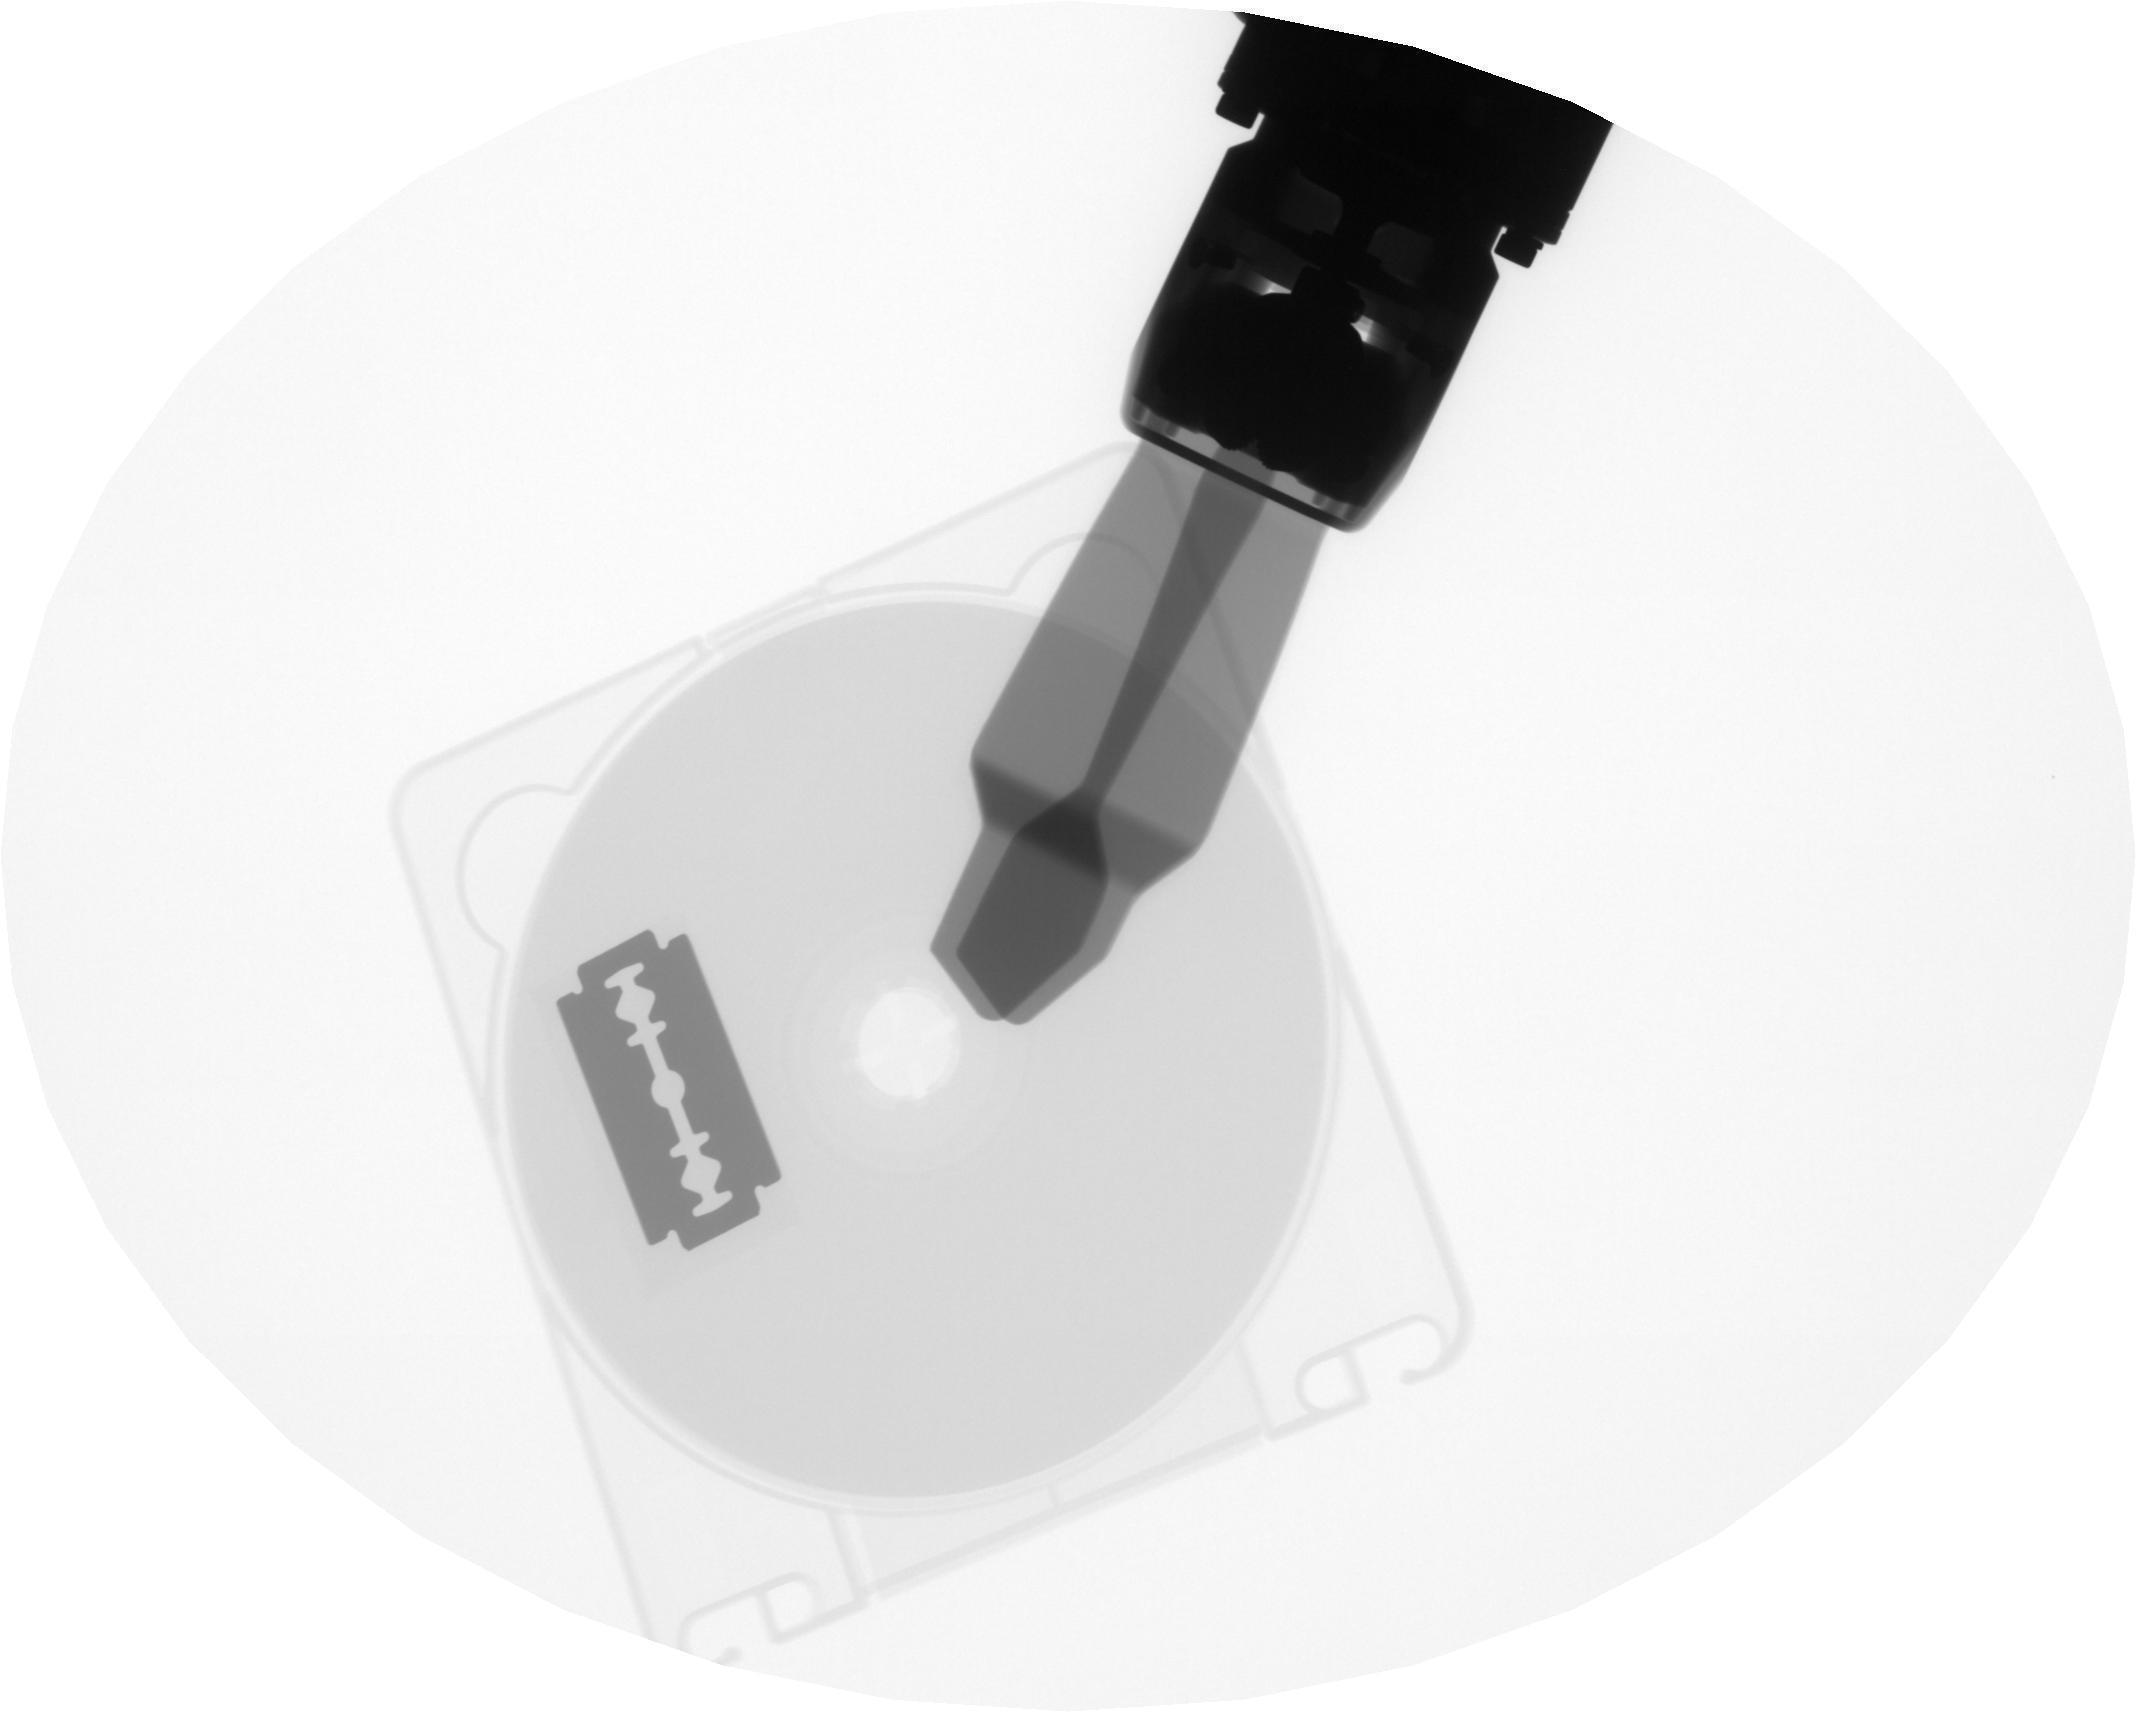RazorBlade: (543, 919, 791, 1260)
